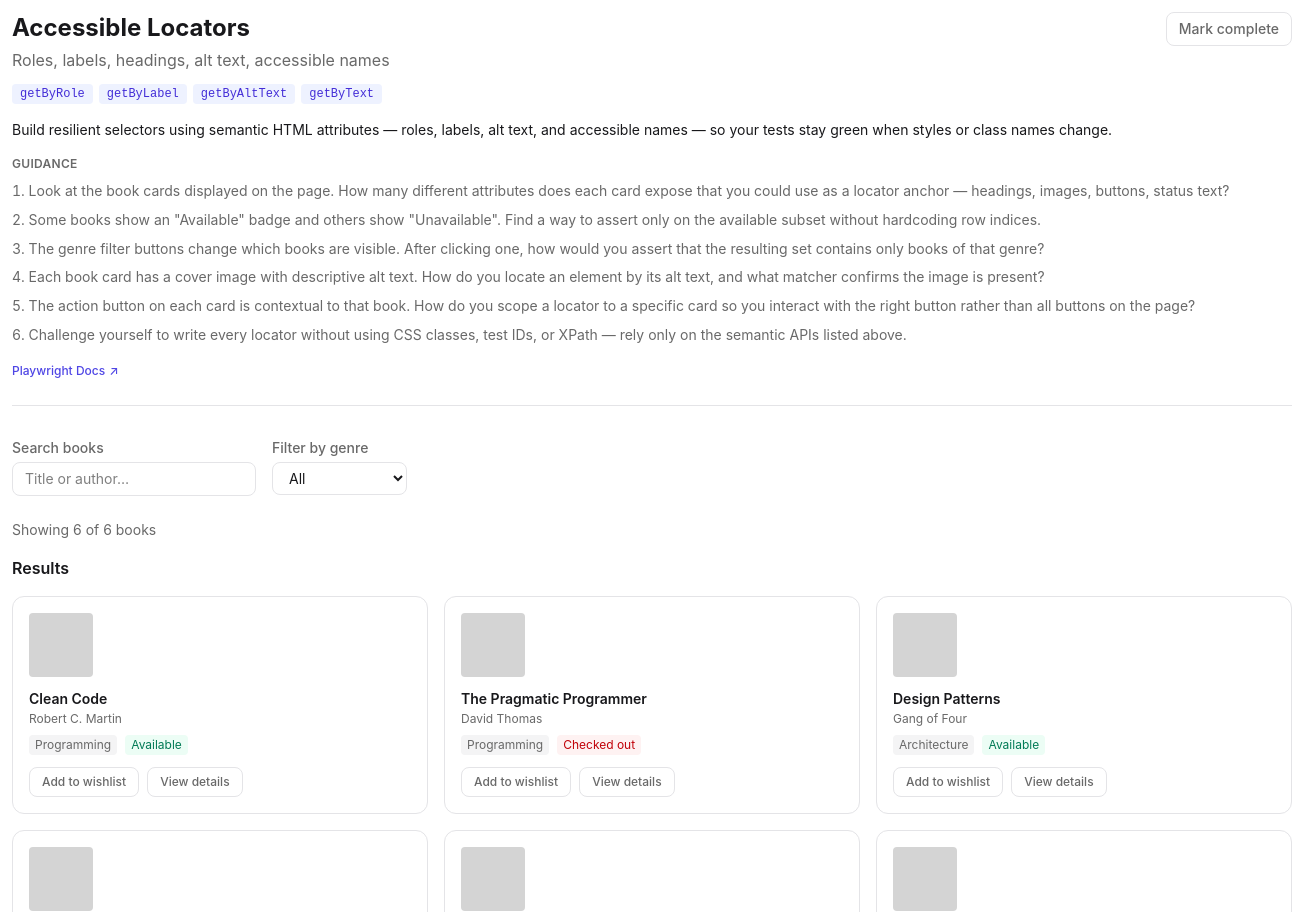
AccessibleLocators › filters books by case-insensitive title search
The width and height of the screenshot is (1304, 912).
Type "clean" into the field labelled "Search books" at {"x": 134, "y": 478}, box [12,462,256,496]
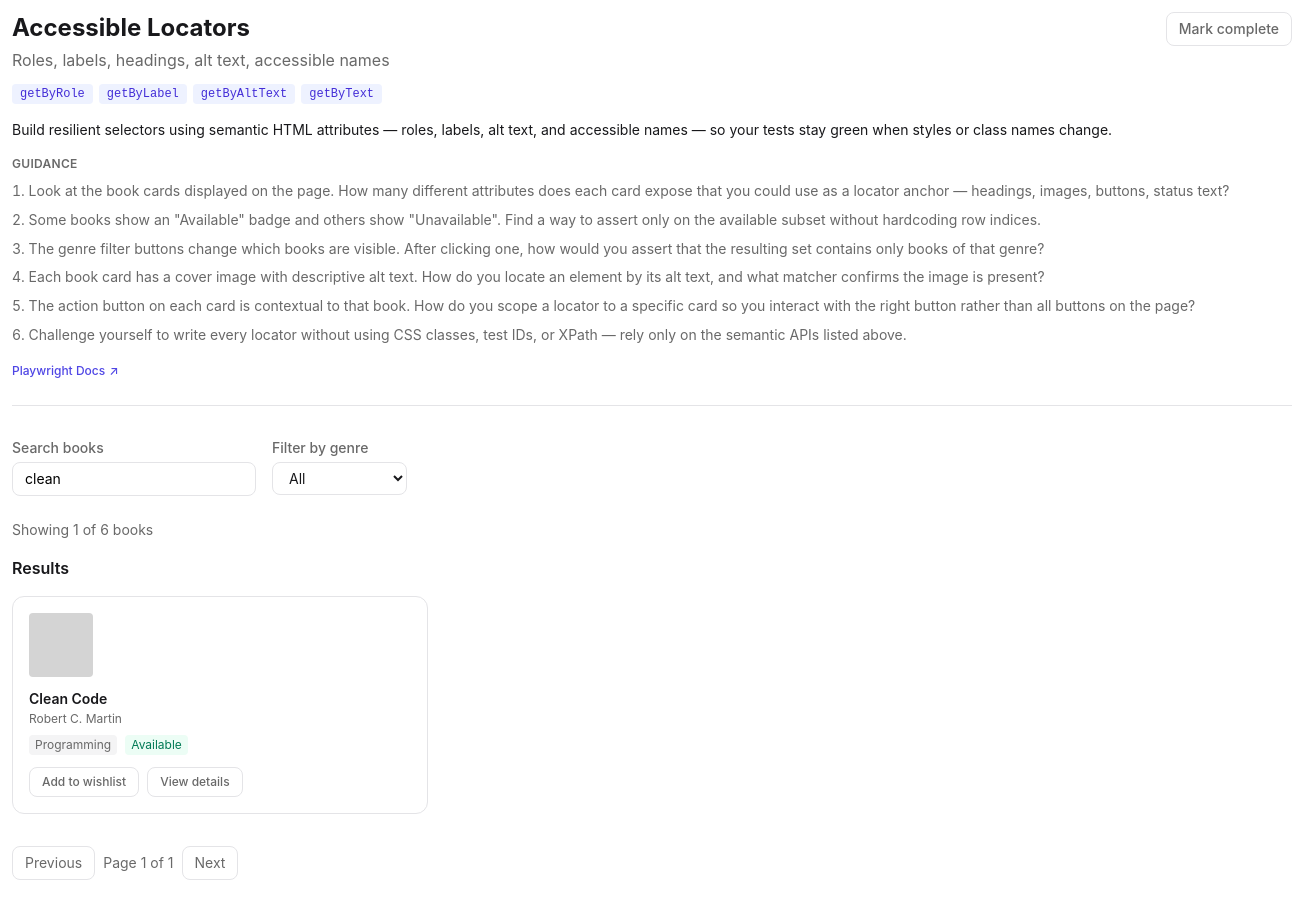
Check: the heading "Clean Code" is shown, box [29,690,107,706]
Check: the message reads "Showing 1 of 6 books", box [12,520,153,538]
